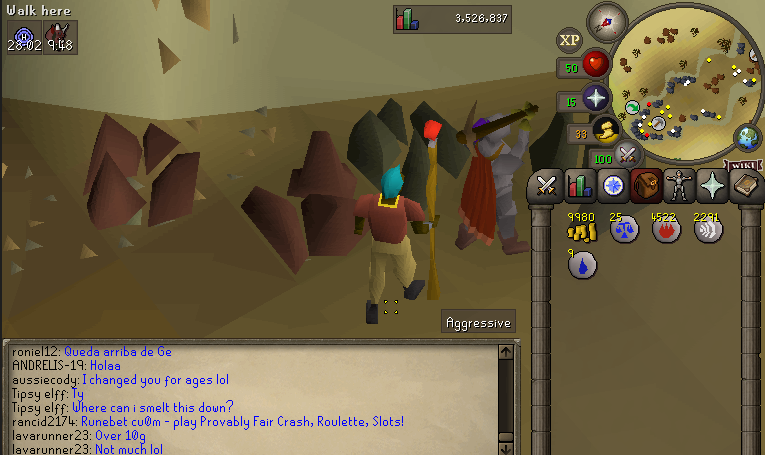iron: (240, 121, 373, 276), (75, 108, 210, 235)
